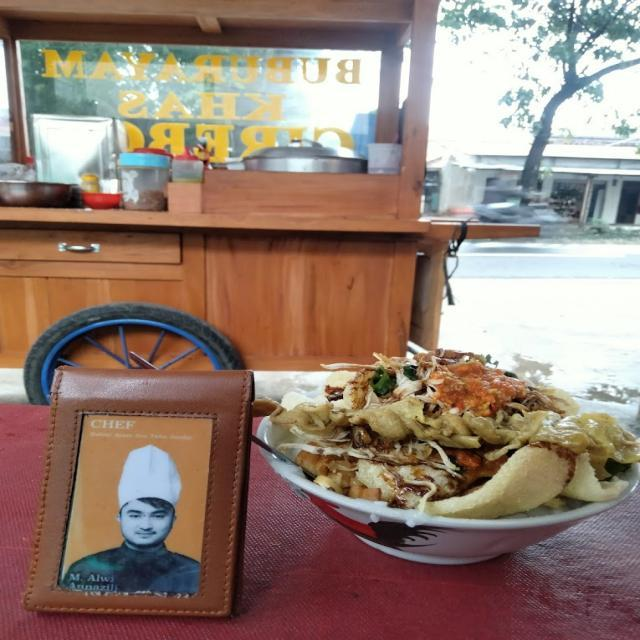bubur ayam: (282, 350, 640, 520)
mangkuk: (251, 433, 640, 567), (0, 181, 73, 208), (81, 192, 123, 210)
sambal: (432, 361, 526, 418)
